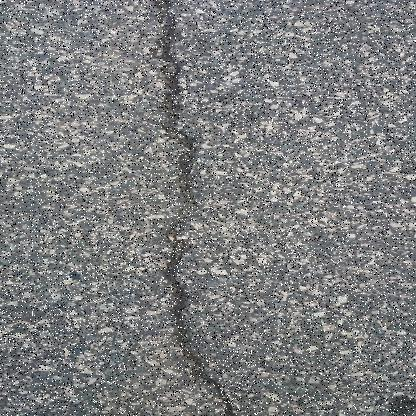Cracks: (133, 0, 249, 415)
